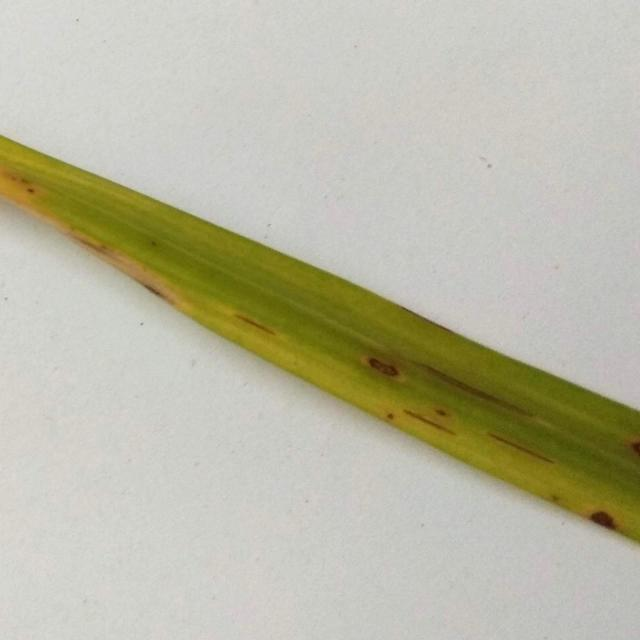Leaf blast: (0, 115, 639, 572)
